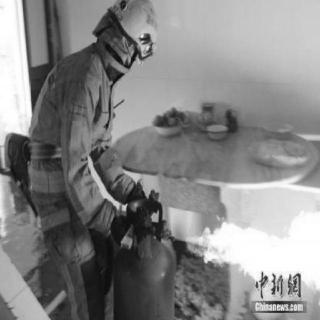other: (254, 268, 298, 298)
